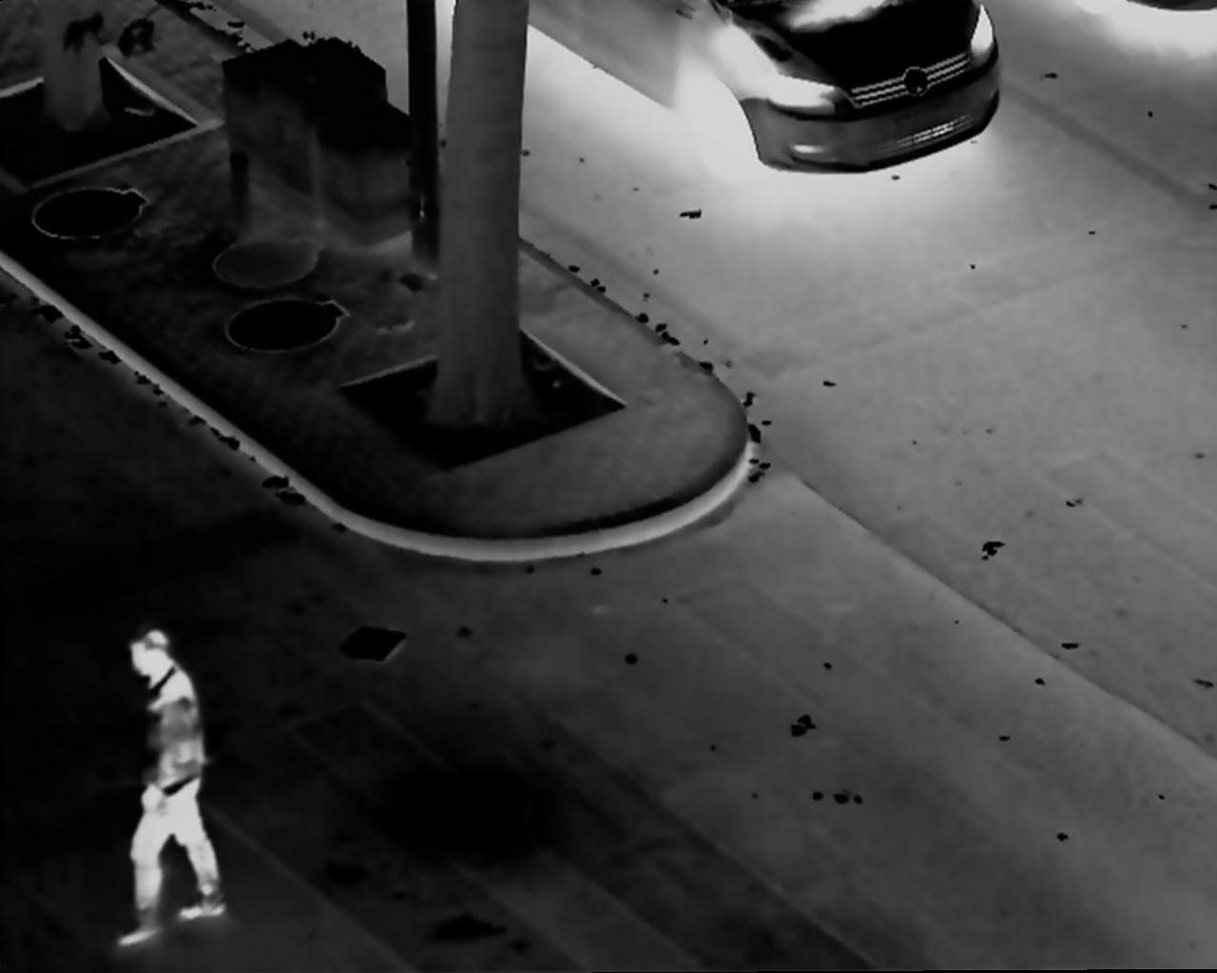person: (106, 623, 229, 946)
